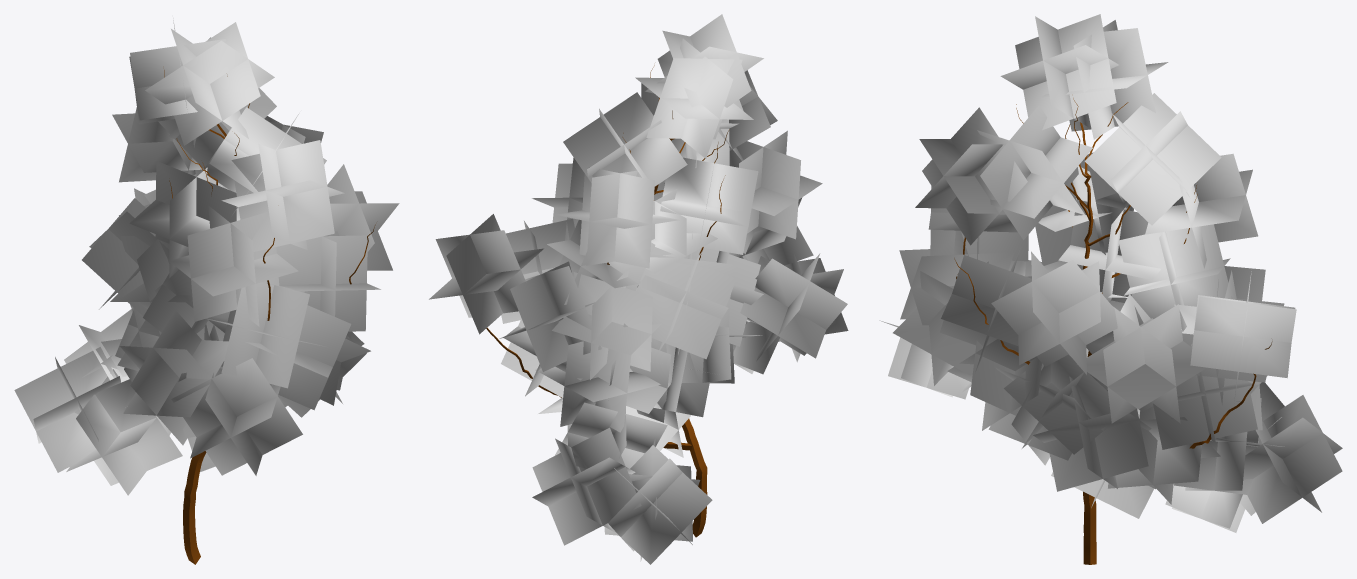
The model's file is tree2_LOD2.fbx.
The picture shows the model from 3 angles, left to right: view 1: azimuth 30°, elevation 25°; view 2: azimuth 150°, elevation 25°; view 3: azimuth 270°, elevation 25°; orthographic projection. The views are drawn at different scales.
Visible parts, largest first — view 1: transform1; view 2: transform1; view 3: transform1.
Boxes of the visible parts, x1=… form: transform1: x1=14, y1=18, x2=399, y2=564; transform1: x1=429, y1=14, x2=848, y2=564; transform1: x1=879, y1=14, x2=1342, y2=564.
Bounding box in the file's own units: 548 × 888 × 683.
